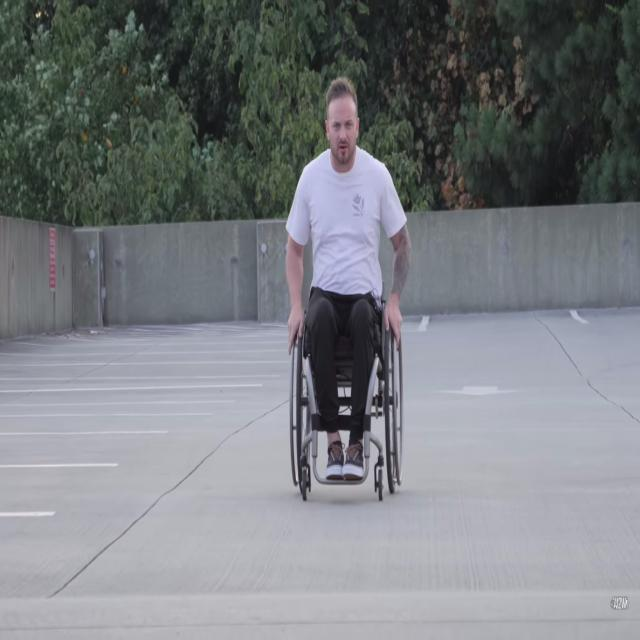wheelchairs: (290, 288, 414, 505)
